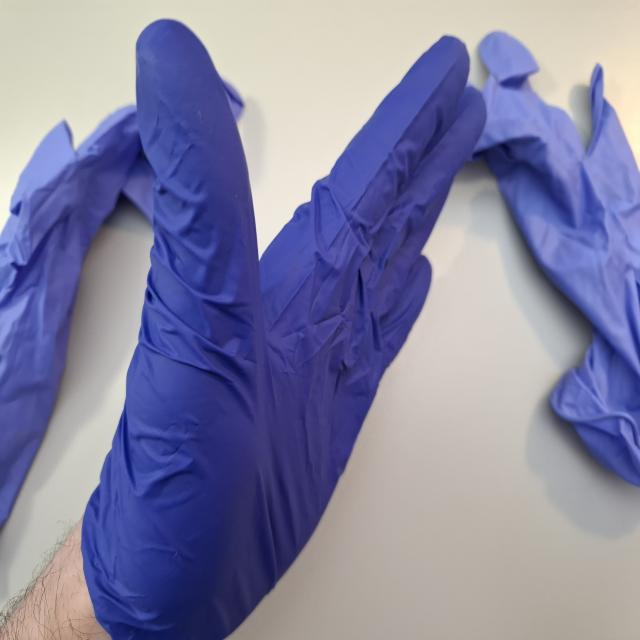glove_on: (84, 19, 490, 640)
